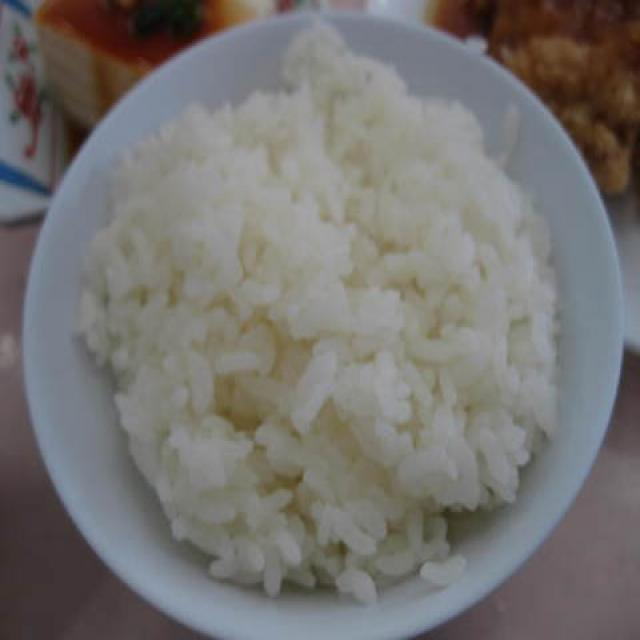rice: (79, 18, 564, 610)
